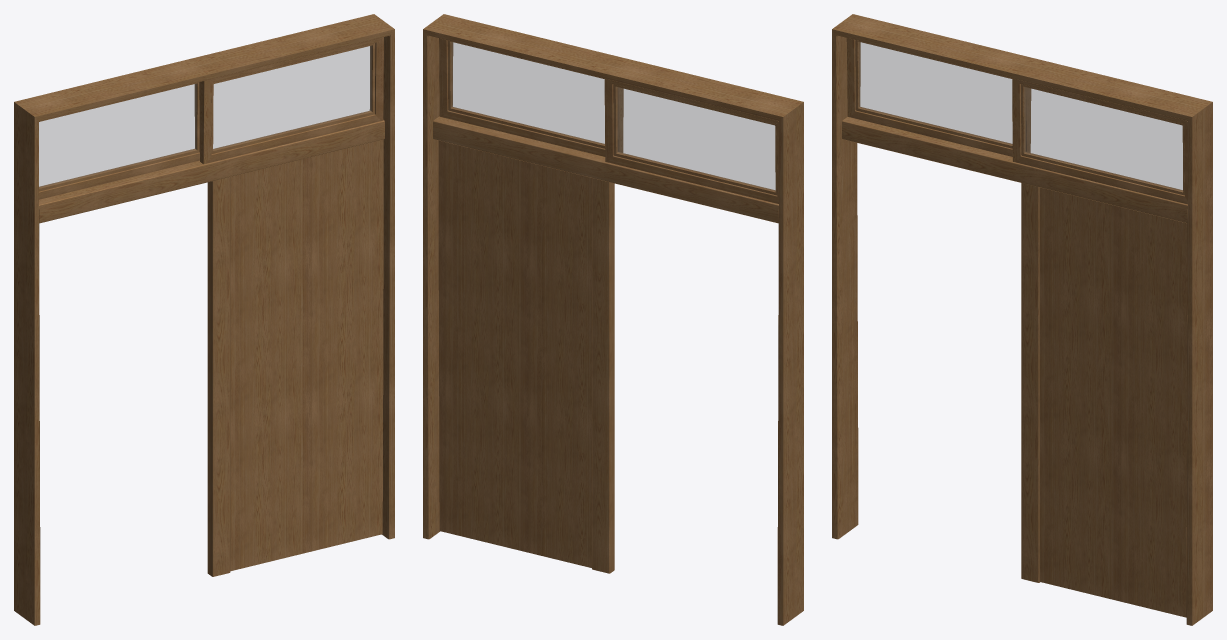
The model's file is M_Partition03.FBX.
3 views of the same model, side by side, from view 1: azimuth 30°, elevation 25°; view 2: azimuth 150°, elevation 25°; view 3: azimuth 330°, elevation 25° (orthographic).
Parts seen in each view (by area): view 1: Partition_Doorless_02; view 2: Partition_Doorless_02; view 3: Partition_Doorless_02.
Boxes of the visible parts, x1,y1,x2,y2 form: Partition_Doorless_02: (14, 14, 394, 625); Partition_Doorless_02: (423, 14, 803, 625); Partition_Doorless_02: (832, 14, 1212, 625).
Size of the model in its own units: 200 by 270 by 20.
